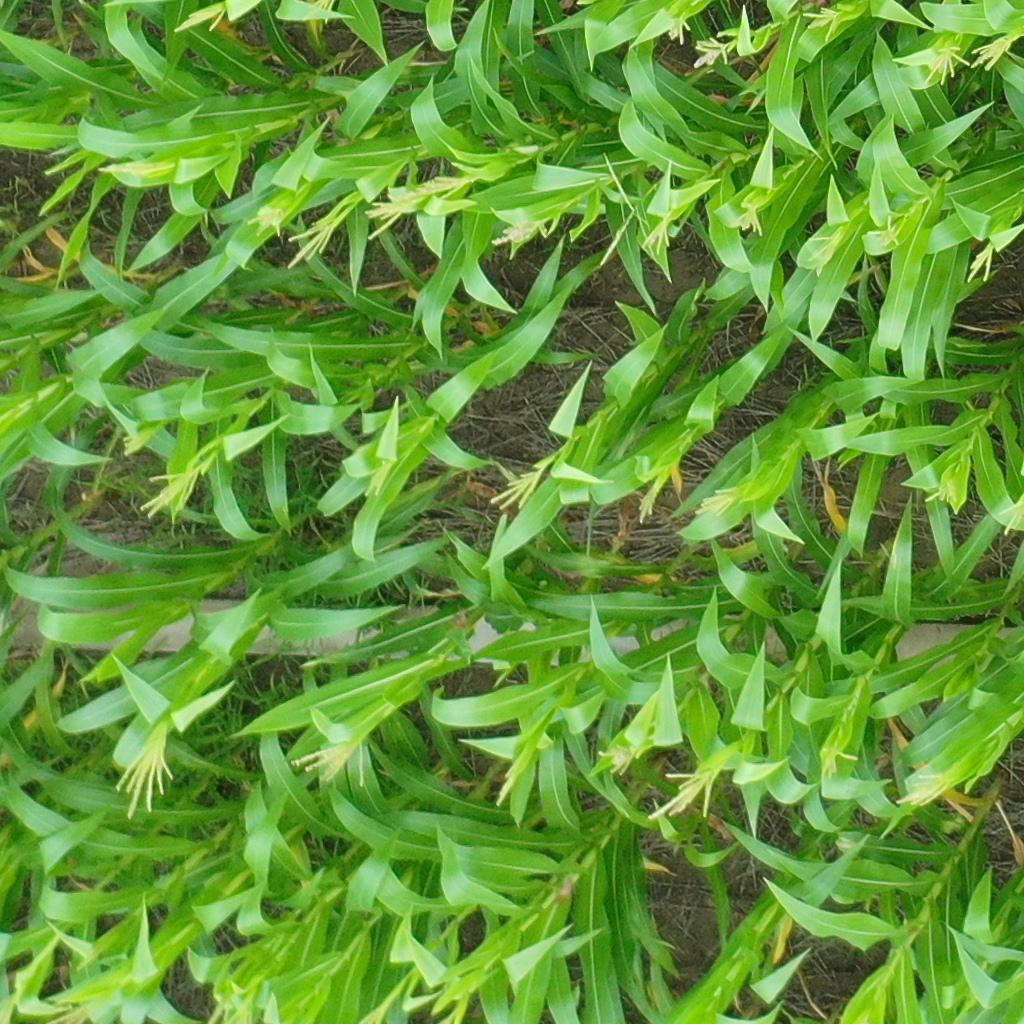Tassel: (591, 147, 652, 268), (288, 727, 372, 789), (644, 762, 720, 828), (115, 736, 175, 818), (140, 465, 210, 521), (489, 454, 555, 511), (87, 148, 180, 183), (364, 187, 419, 242), (920, 37, 971, 91), (284, 218, 340, 266), (492, 210, 549, 254), (970, 29, 1023, 73), (169, 1, 232, 35), (415, 161, 475, 196), (690, 33, 734, 79), (893, 770, 948, 806), (638, 208, 677, 256), (693, 483, 744, 518), (803, 226, 843, 270), (488, 754, 520, 809), (800, 1, 847, 38), (864, 210, 906, 251), (243, 200, 287, 239), (592, 739, 638, 776), (963, 230, 993, 285), (730, 196, 770, 235), (635, 474, 666, 524), (360, 455, 396, 495), (995, 491, 1024, 537), (920, 477, 962, 508), (820, 742, 859, 775), (660, 8, 691, 46), (118, 428, 152, 456), (300, 1, 339, 24)
